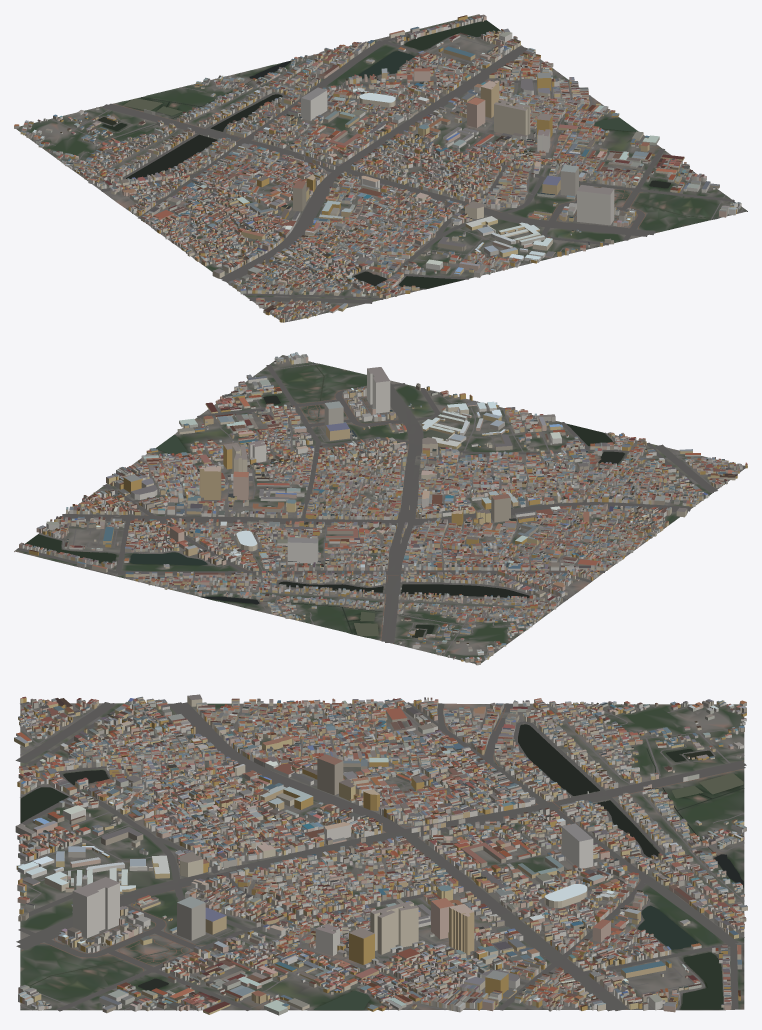
3 renders of one model, top to bottom at view 1: azimuth 30°, elevation 25°; view 2: azimuth 150°, elevation 25°; view 3: azimuth 270°, elevation 25°, orthographic. The views are drawn at different scales.
Parts seen in each view (by area): view 1: buildings, ground, roads, water; view 2: buildings, ground, roads, water; view 3: buildings, ground, roads, water.
Boxes of the visible parts, x1,y1,x2,y2 form: buildings: (14, 14, 741, 322); ground: (16, 14, 747, 322); roads: (20, 19, 744, 322); water: (98, 20, 717, 288); buildings: (19, 352, 747, 665); ground: (14, 355, 747, 663); roads: (16, 355, 745, 662); water: (24, 362, 624, 637); buildings: (14, 694, 747, 1015); ground: (20, 702, 744, 1010); roads: (15, 702, 746, 1011); water: (21, 724, 744, 1009).
Bounding box in the file's own units: 1434 × 93.17 × 1421.
